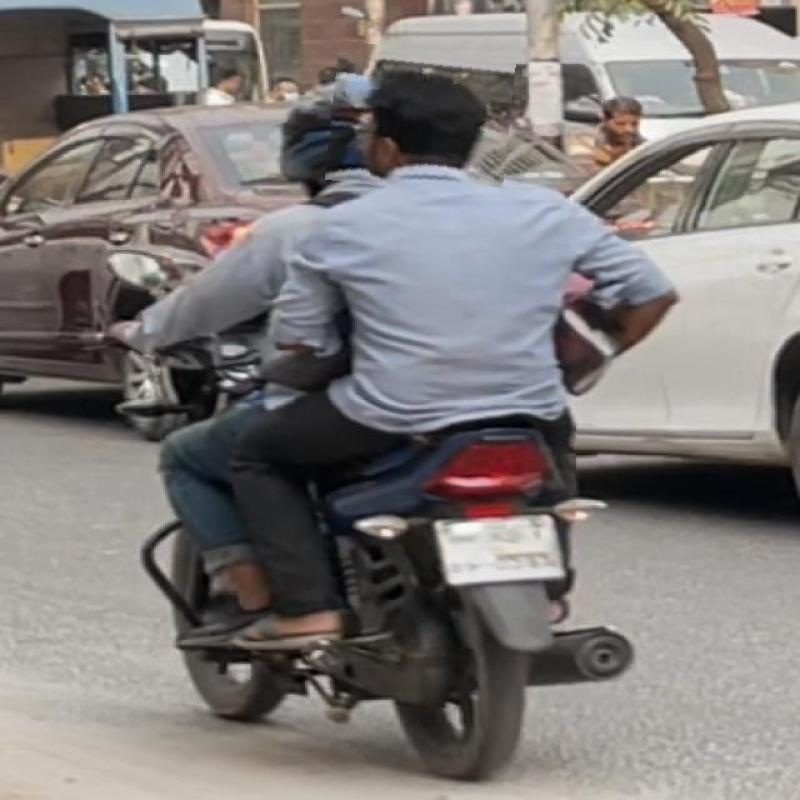nohelmet: (329, 45, 513, 194)
